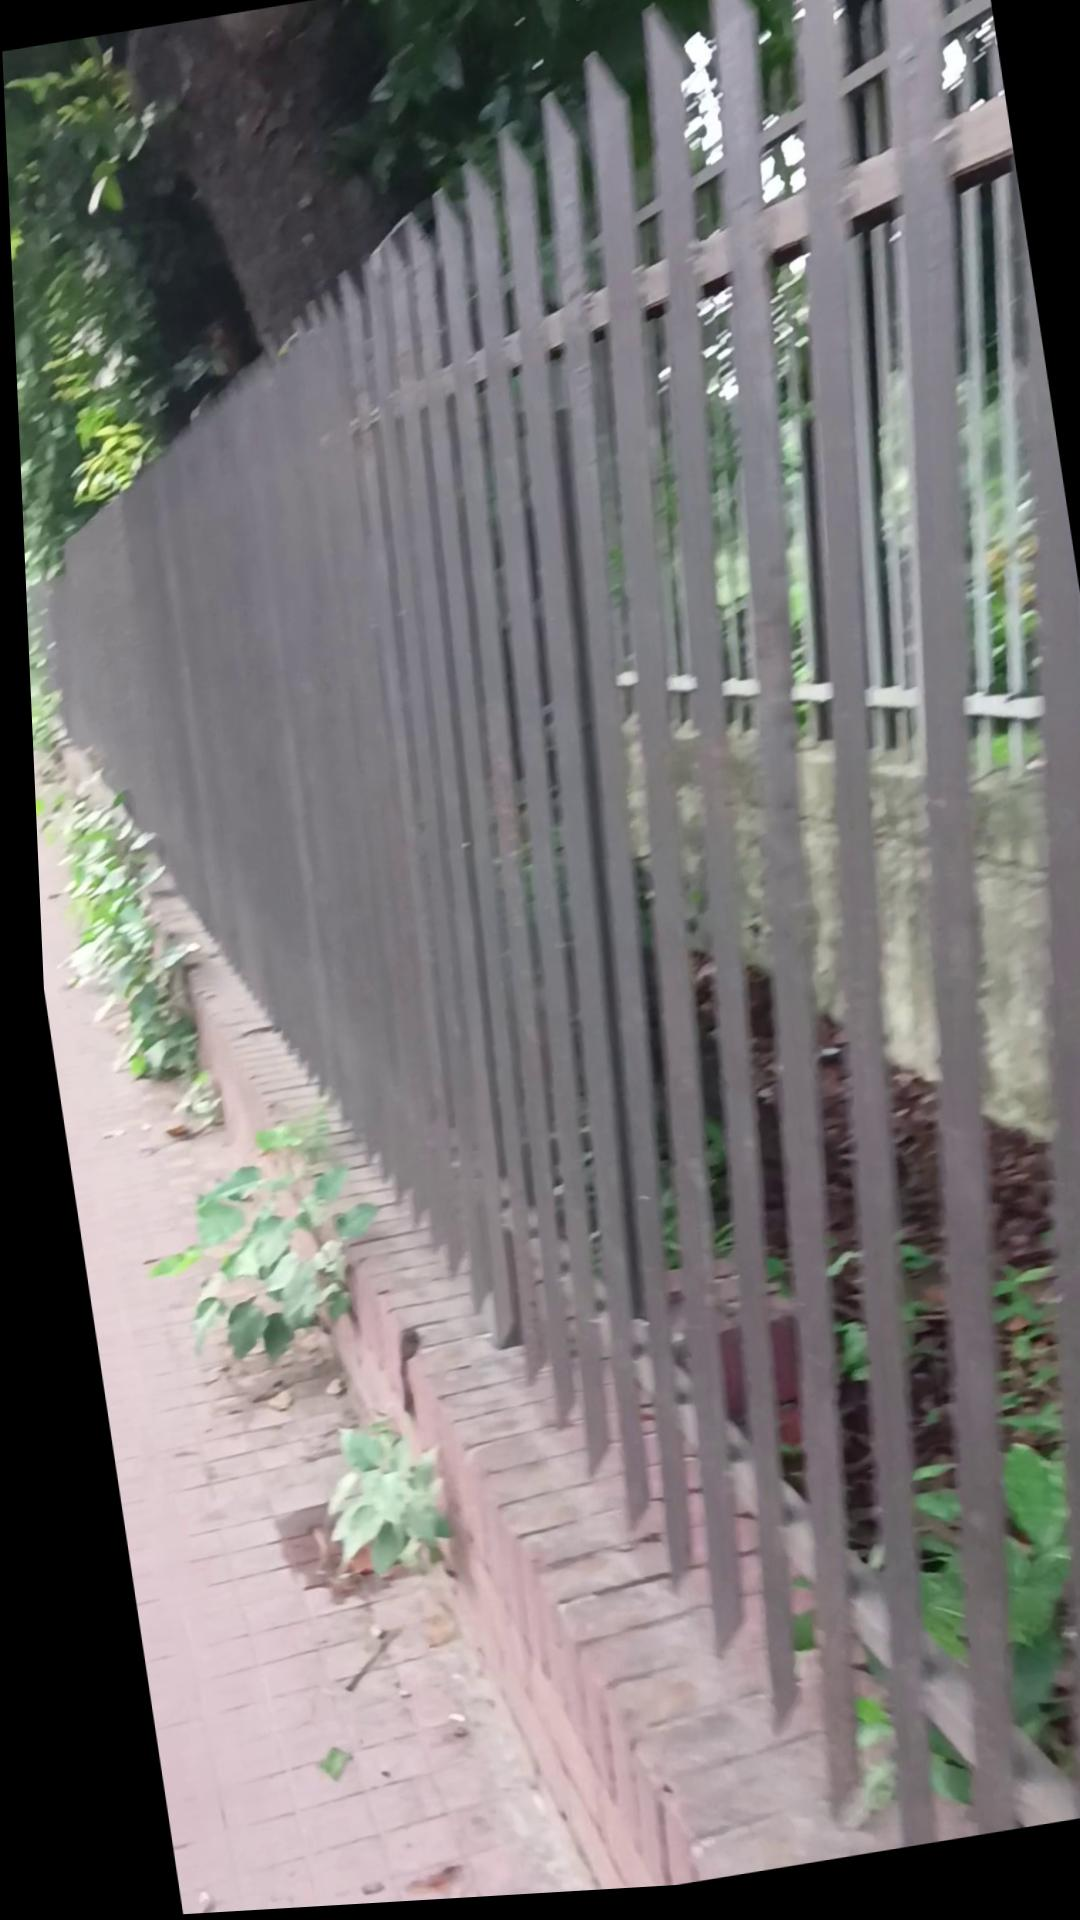Crosswalk: (42, 615, 897, 1919)
